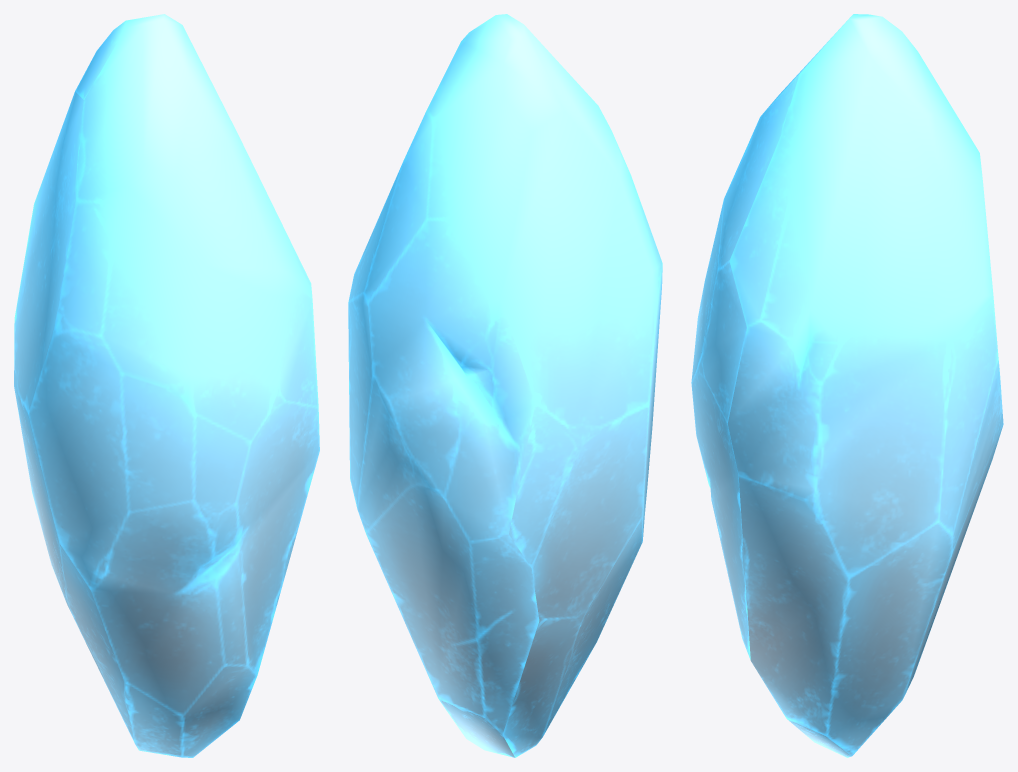
File: Crystal - Translucent 01-BO42vEmn.glb
The picture shows the model from 3 angles, left to right: view 1: azimuth 30°, elevation 25°; view 2: azimuth 150°, elevation 25°; view 3: azimuth 270°, elevation 25°; orthographic projection. The views are drawn at different scales.
Parts seen in each view (by area): view 1: default; view 2: default; view 3: default.
Boxes of the visible parts, bbox=[...] form: default: bbox=[14, 14, 319, 757]; default: bbox=[348, 14, 662, 757]; default: bbox=[691, 14, 1003, 757].
Size of the model in its own units: 0.7518 by 1.95 by 0.7582.
